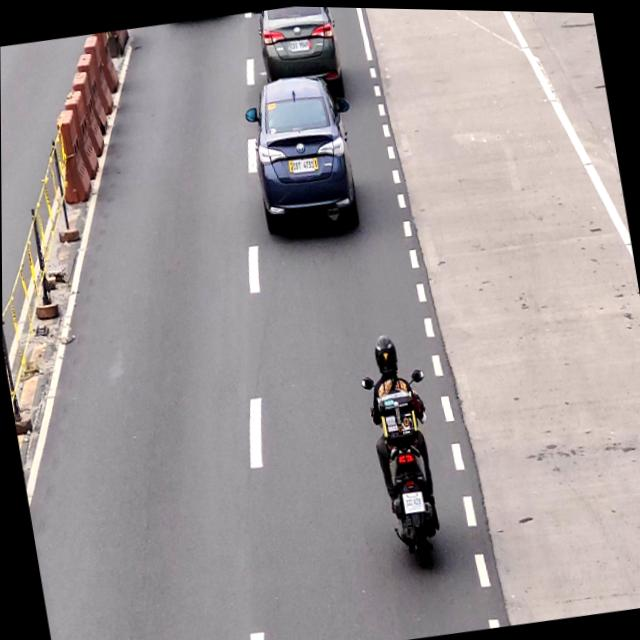Car: (243, 74, 355, 230), (255, 4, 345, 86)
License-Plate: (399, 487, 426, 515), (287, 155, 318, 176), (291, 38, 312, 52)
Motorcycle: (361, 331, 448, 566)
